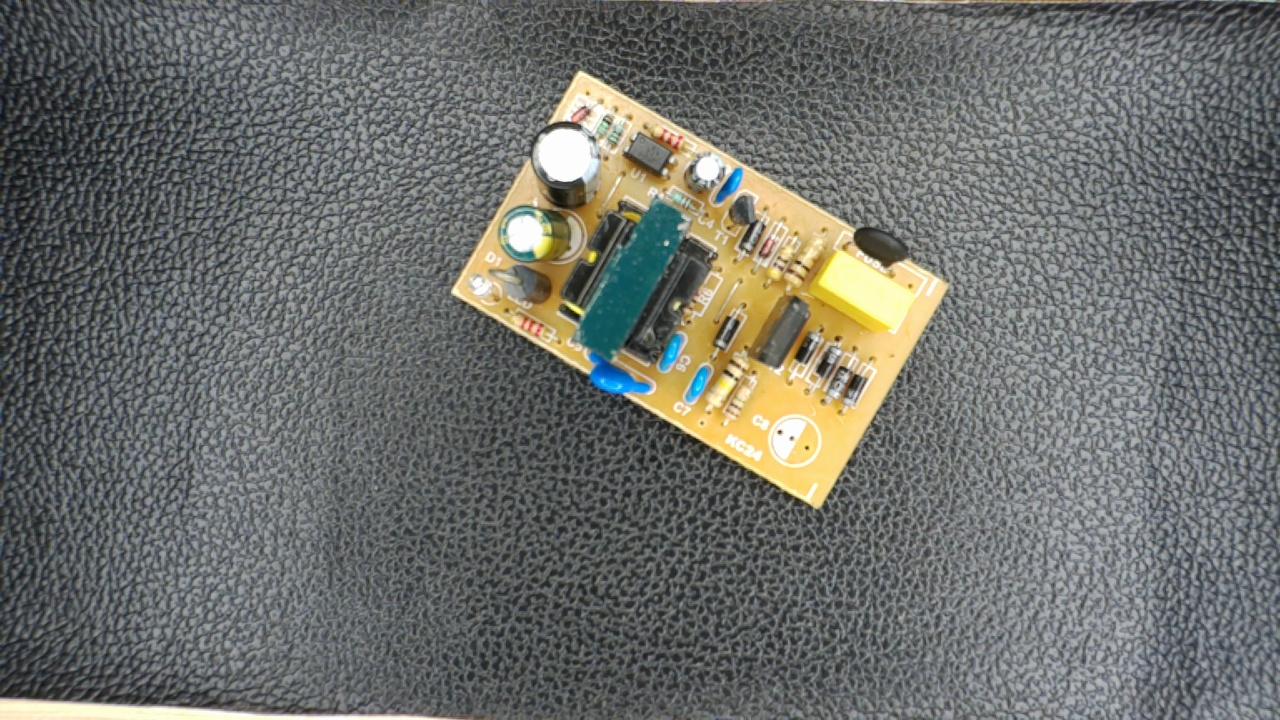fuse: (836, 222, 915, 281)
mov: (584, 345, 654, 398)
optocoupler: (623, 126, 683, 182)
